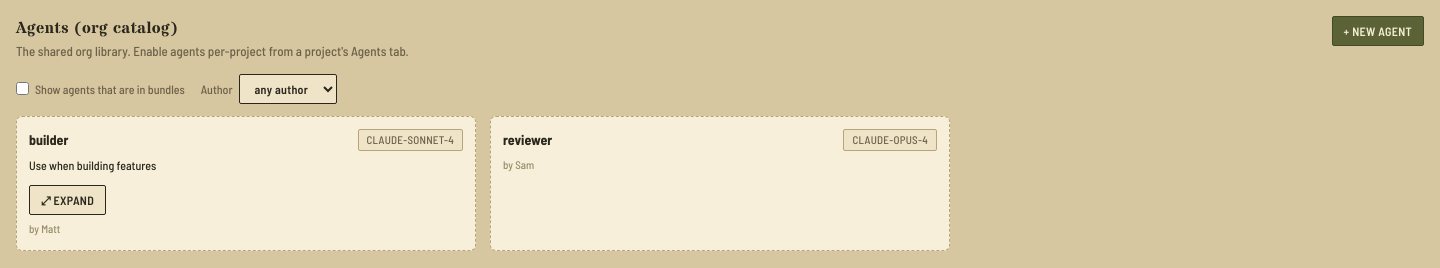
Test: Agents org catalog (collapsed model) › filters by author
The width and height of the screenshot is (1440, 268).
Expected: the element with test id "agent-card-builder" is shown, [16,116,476,250]
Select "Sam" in the dropdown with test id "agent-author-filter": {"x": 288, "y": 88} [238,74,336,104]
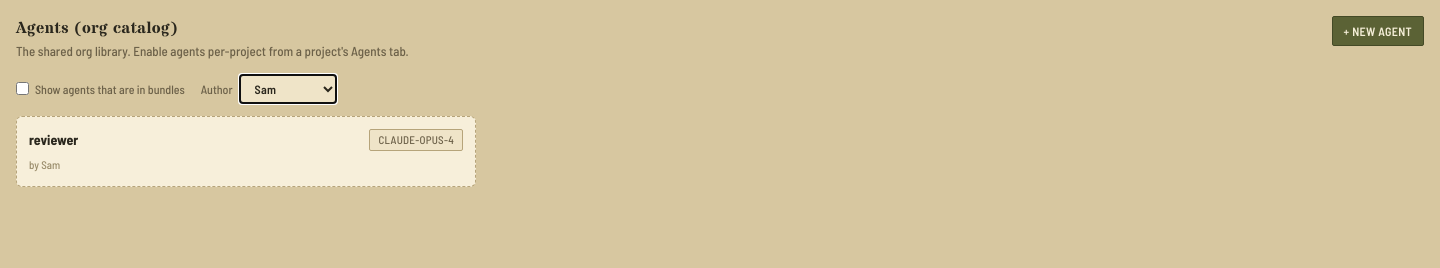
Expected: the element with test id "agent-card-reviewer" is shown, [16,116,476,186]
Now the element with test id "agent-card-builder" is gone
